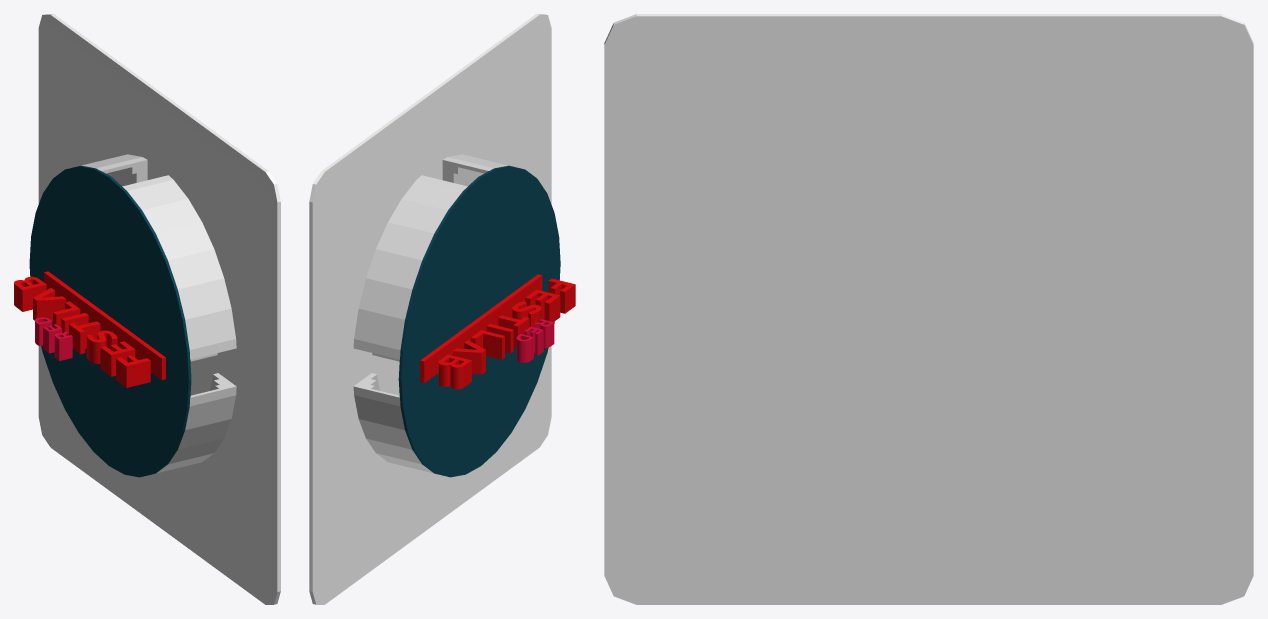
Rendered from auditorioFESTILAB4.glb.
3 renders of one model, left to right at view 1: azimuth 30°, elevation 25°; view 2: azimuth 150°, elevation 25°; view 3: azimuth 270°, elevation 25°, orthographic. The views are drawn at different scales.
Visible parts, largest first — view 1: Cube.006; view 2: Cube.006; view 3: Cube.006.
Part boxes in pixels (bbox=[...]): Cube.006: bbox=[14, 14, 280, 604]; Cube.006: bbox=[309, 14, 575, 604]; Cube.006: bbox=[604, 14, 1253, 604].
Bounding box in the file's own units: 8.25 × 30 × 30.
